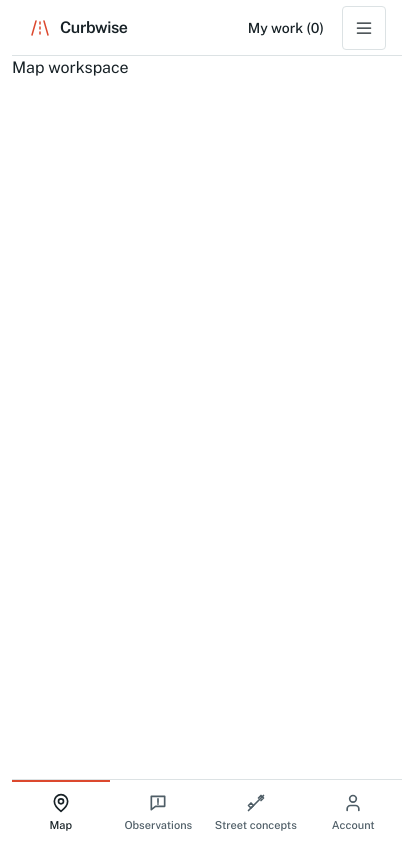
Test: application navigation › uses resident-facing labels while preserving the existing routes
The image size is (402, 844).
What coordinates should you click on to do the following:
click the link "Observations"
I would click on:
 (158, 812)
Its box is 124,793 -> 192,831.
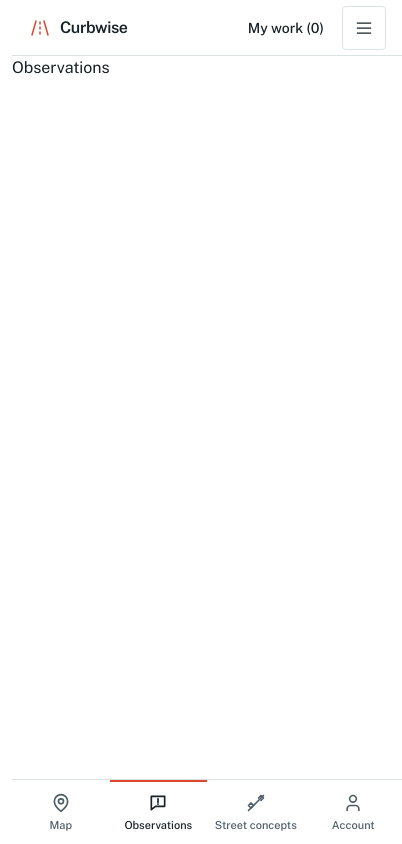
Expected: the heading "Observations" is shown, 12,58 -> 110,77
